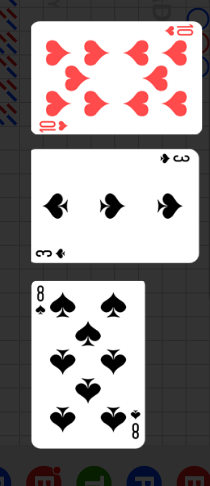10H: (162, 24, 195, 38)
8S: (34, 284, 47, 318), (129, 407, 142, 440)
